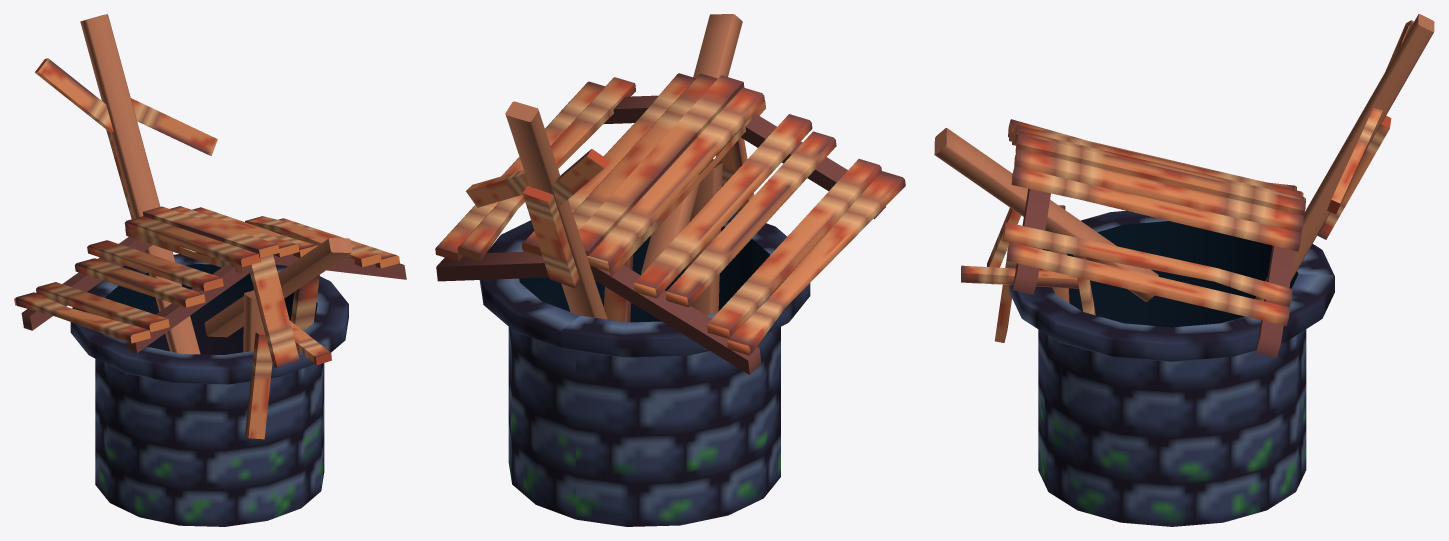
Rendered from PocoQuebrado.fbx.
The picture shows the model from 3 angles, left to right: view 1: azimuth 30°, elevation 25°; view 2: azimuth 150°, elevation 25°; view 3: azimuth 270°, elevation 25°; orthographic projection. The views are drawn at different scales.
Parts seen in each view (by area): view 1: Poço; view 2: Poço; view 3: Poço.
Part boxes in pixels (x1=…): Poço: x1=14, y1=14, x2=406, y2=526; Poço: x1=435, y1=14, x2=905, y2=526; Poço: x1=934, y1=14, x2=1434, y2=526.
Size of the model in its own units: 130 by 179 by 175.
